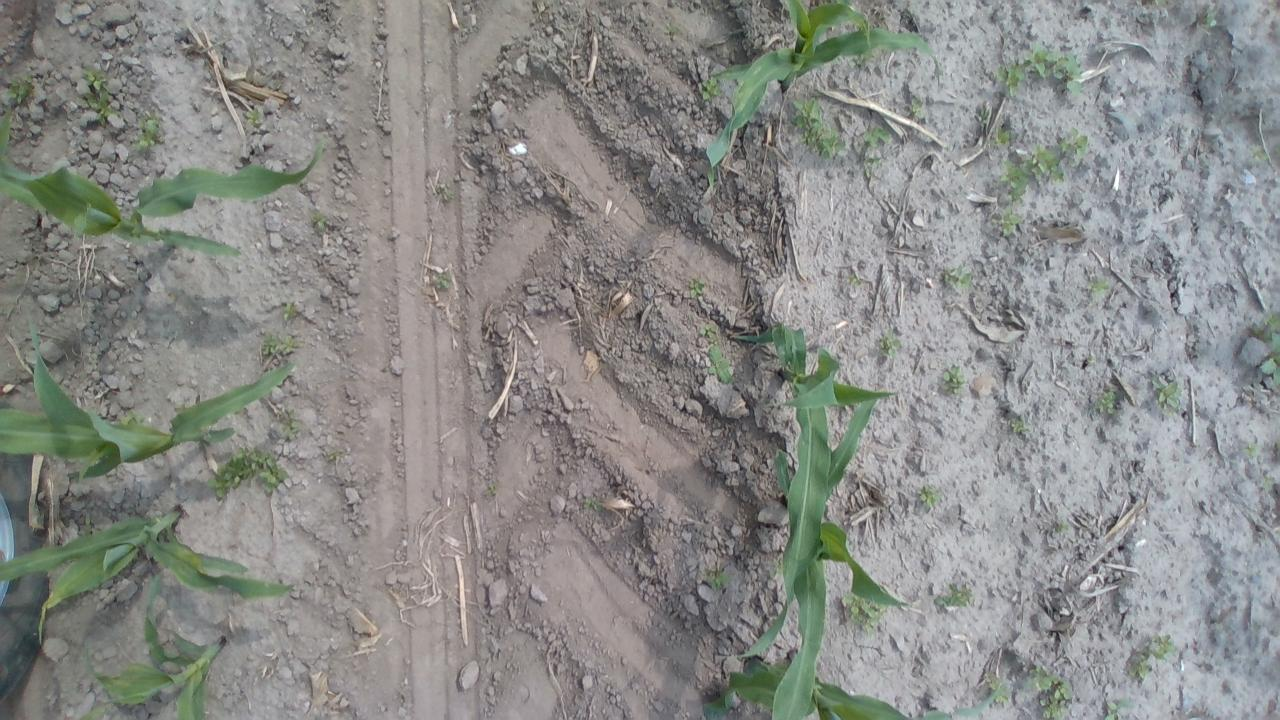Maize: (721, 322, 902, 656), (0, 90, 325, 260), (0, 311, 302, 487), (766, 392, 926, 718), (701, 1, 940, 194), (0, 507, 300, 646), (84, 568, 227, 720), (698, 655, 1004, 719)
Weeds: (202, 445, 292, 500), (1008, 44, 1088, 96), (998, 146, 1073, 200), (788, 93, 844, 158), (74, 68, 120, 126), (1126, 635, 1175, 683), (1032, 670, 1078, 714), (844, 592, 886, 636), (1150, 374, 1184, 417), (1026, 663, 1068, 696), (704, 344, 736, 386), (1034, 688, 1078, 718), (3, 72, 37, 110), (936, 578, 974, 612), (130, 114, 160, 156), (258, 328, 300, 356), (992, 62, 1021, 98), (860, 122, 894, 152), (274, 406, 302, 442), (1248, 312, 1277, 346), (1060, 129, 1090, 161), (981, 116, 1014, 145), (914, 481, 944, 510), (944, 265, 974, 293), (940, 366, 966, 398), (696, 74, 724, 103), (983, 678, 1013, 705), (878, 329, 904, 360), (1098, 698, 1136, 718), (996, 209, 1023, 236), (706, 566, 732, 594), (1096, 388, 1121, 415), (1086, 276, 1114, 300), (1258, 348, 1276, 385), (698, 318, 722, 344), (308, 210, 332, 236), (580, 493, 604, 515), (436, 180, 460, 202), (431, 271, 454, 293), (281, 300, 302, 324), (1250, 142, 1272, 164), (906, 96, 926, 120), (686, 276, 706, 300), (243, 106, 264, 128), (1201, 9, 1220, 32), (662, 20, 682, 41), (324, 446, 346, 464), (1008, 418, 1028, 437), (1240, 440, 1260, 459), (1052, 519, 1073, 537), (481, 481, 500, 498), (847, 272, 865, 288), (1259, 476, 1275, 494)
